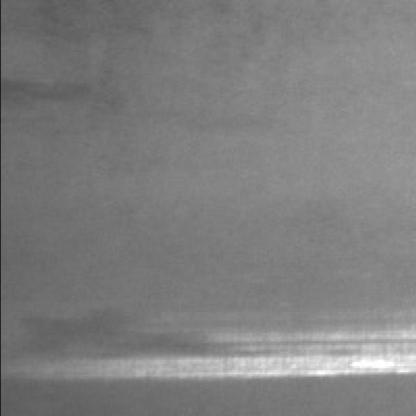inclusion: (0, 72, 87, 108)
scratches: (89, 324, 410, 374)
